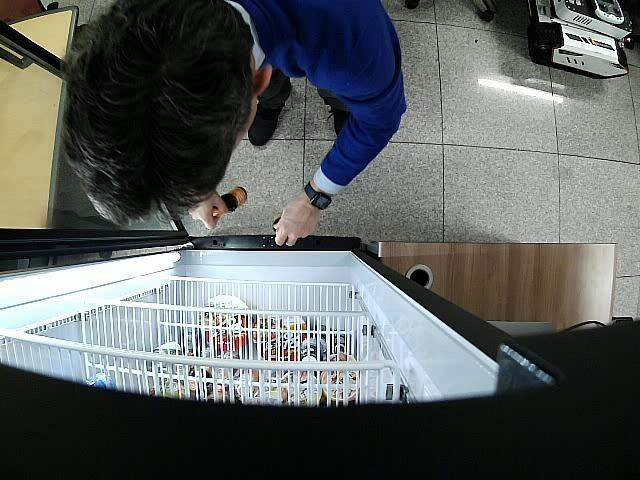17_vita500: (214, 186, 247, 216)
